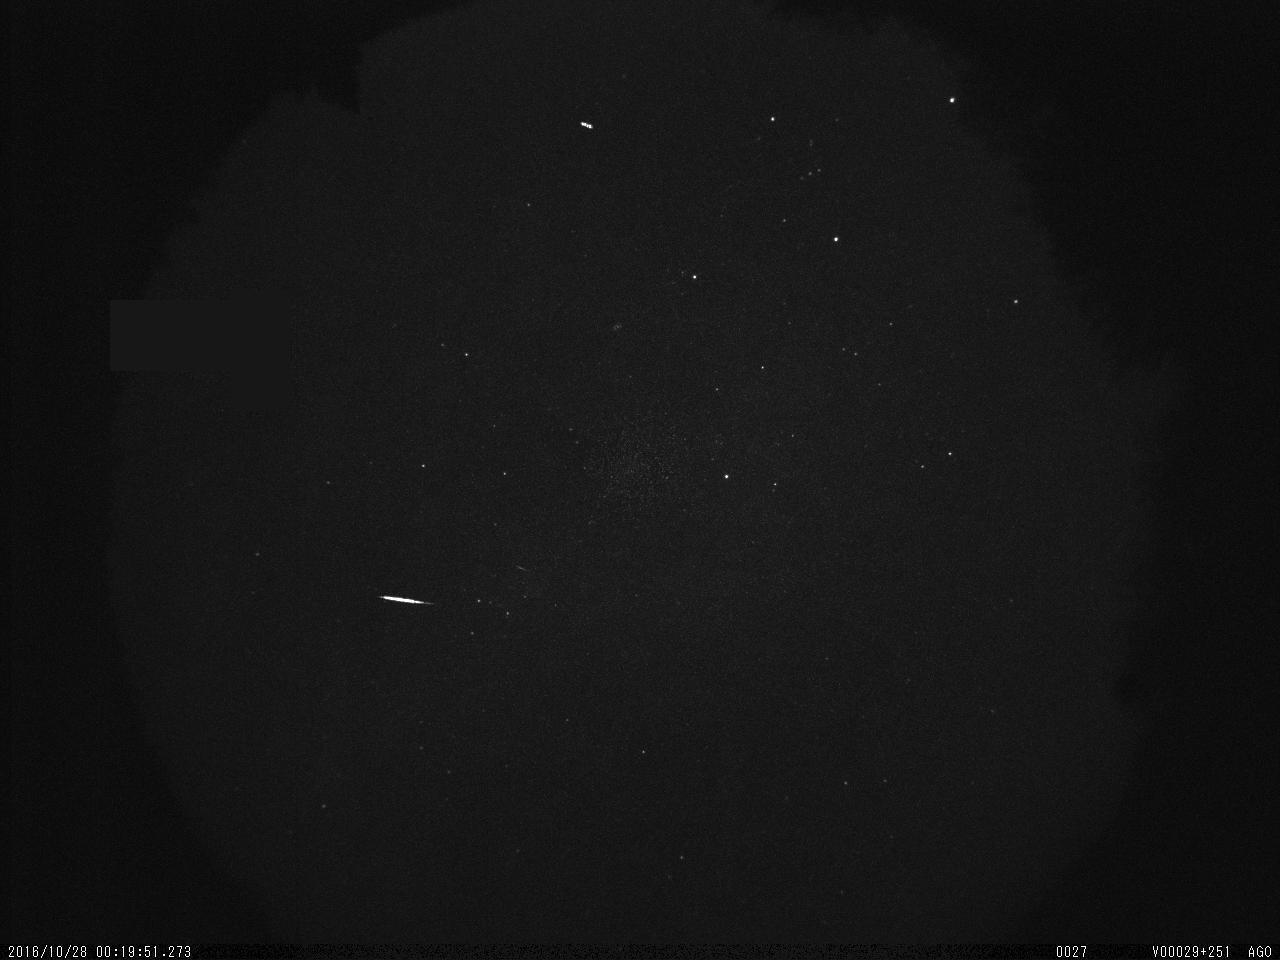Meteor: (377, 592, 434, 606)
